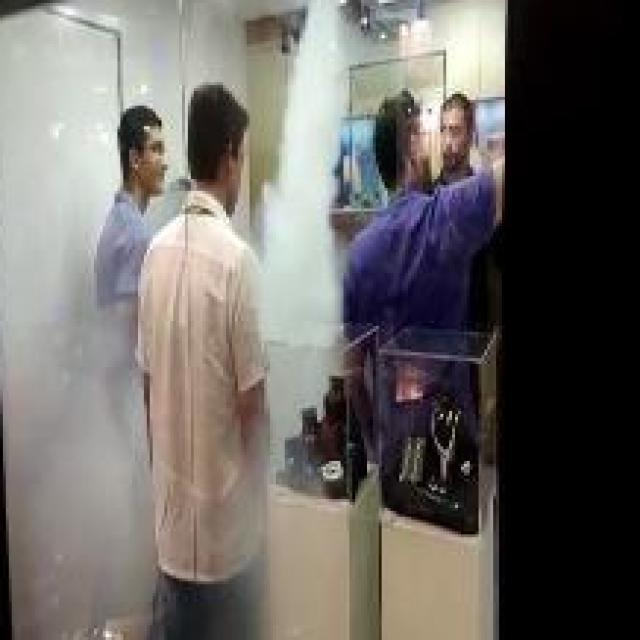fire: (0, 64, 159, 632), (254, 20, 345, 373)
